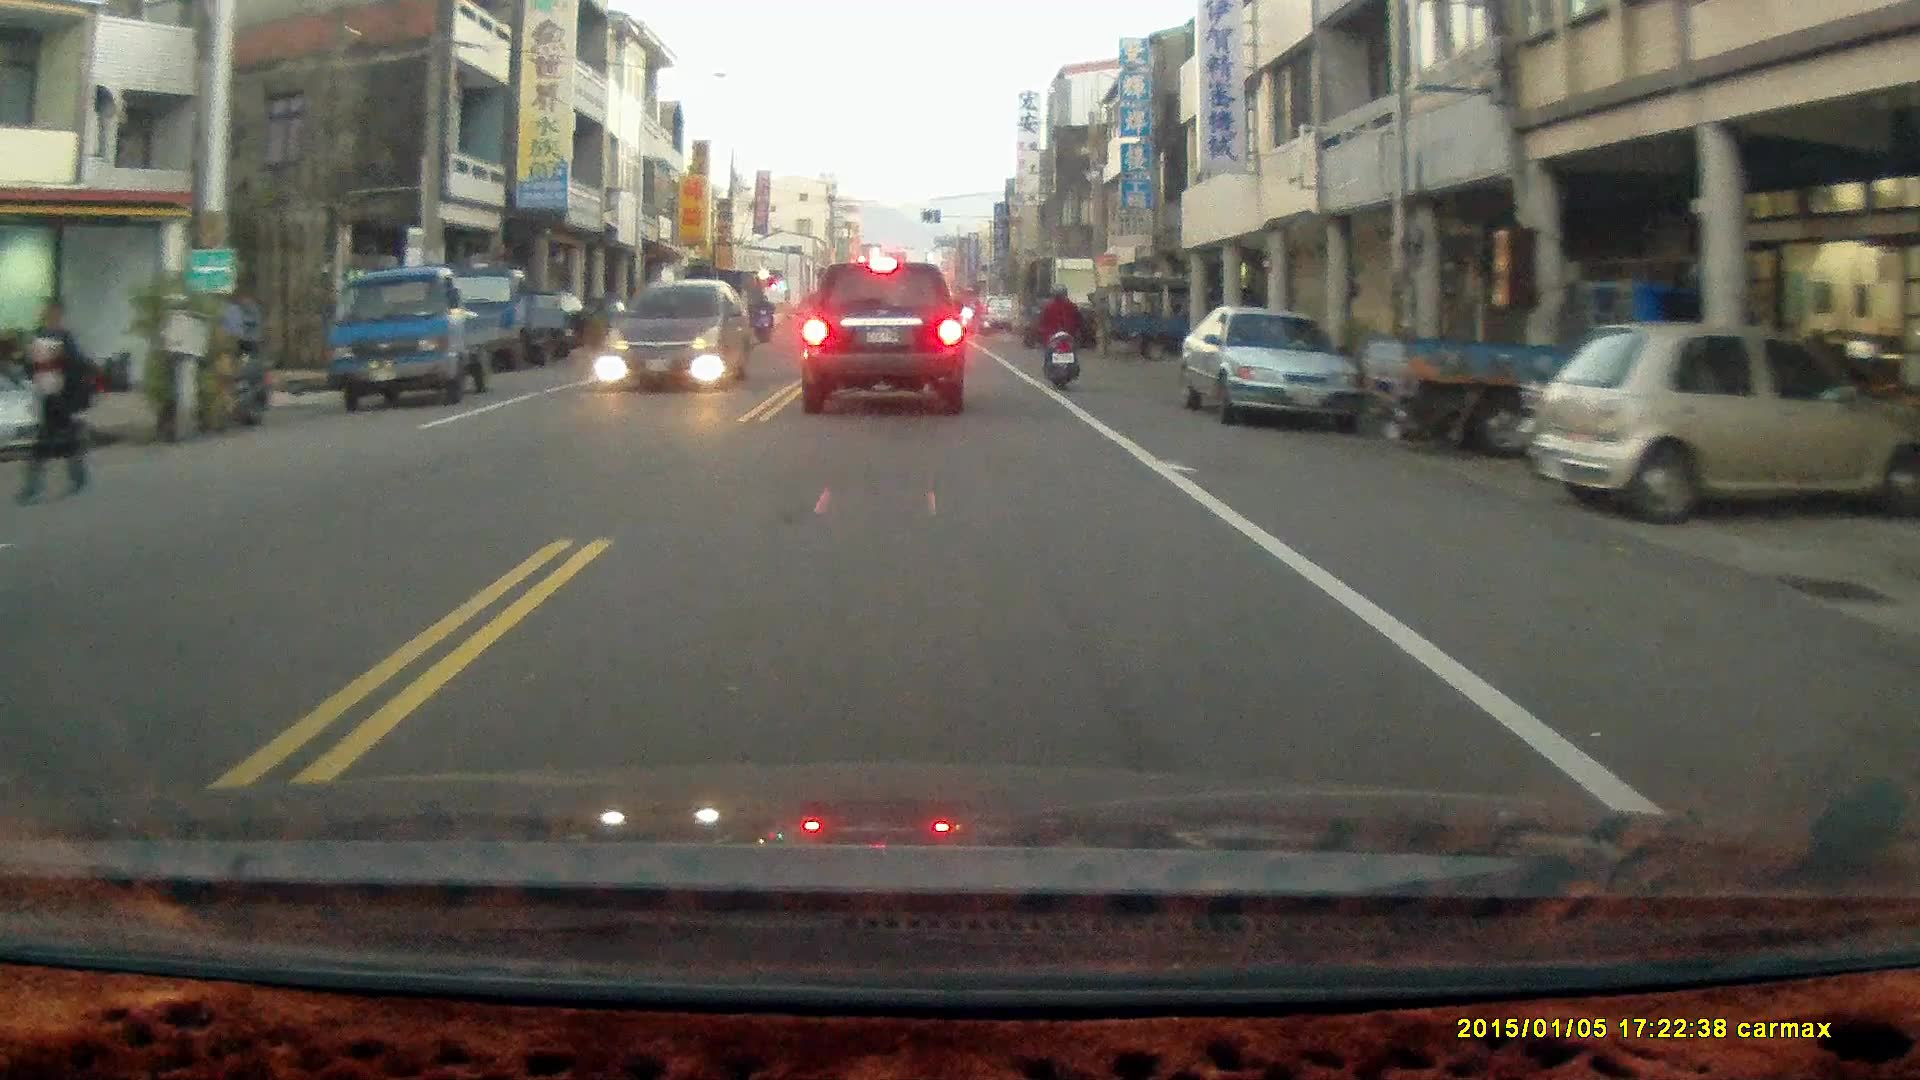pedestrian: (16, 295, 93, 505), (240, 290, 268, 379)
rider: (1037, 281, 1081, 390), (750, 294, 776, 344)
vehicle: (1532, 319, 1907, 530), (795, 256, 969, 419), (331, 265, 511, 413), (1181, 308, 1366, 429), (608, 279, 751, 393), (1, 355, 96, 462)
